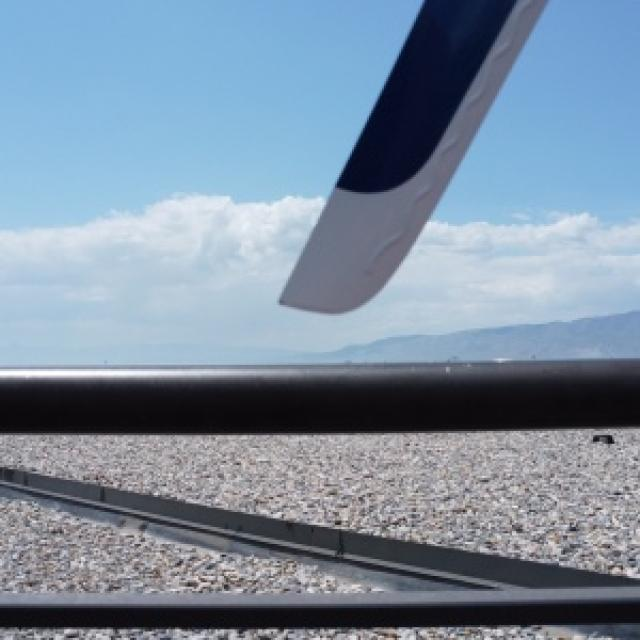healthy: (279, 0, 544, 311)
